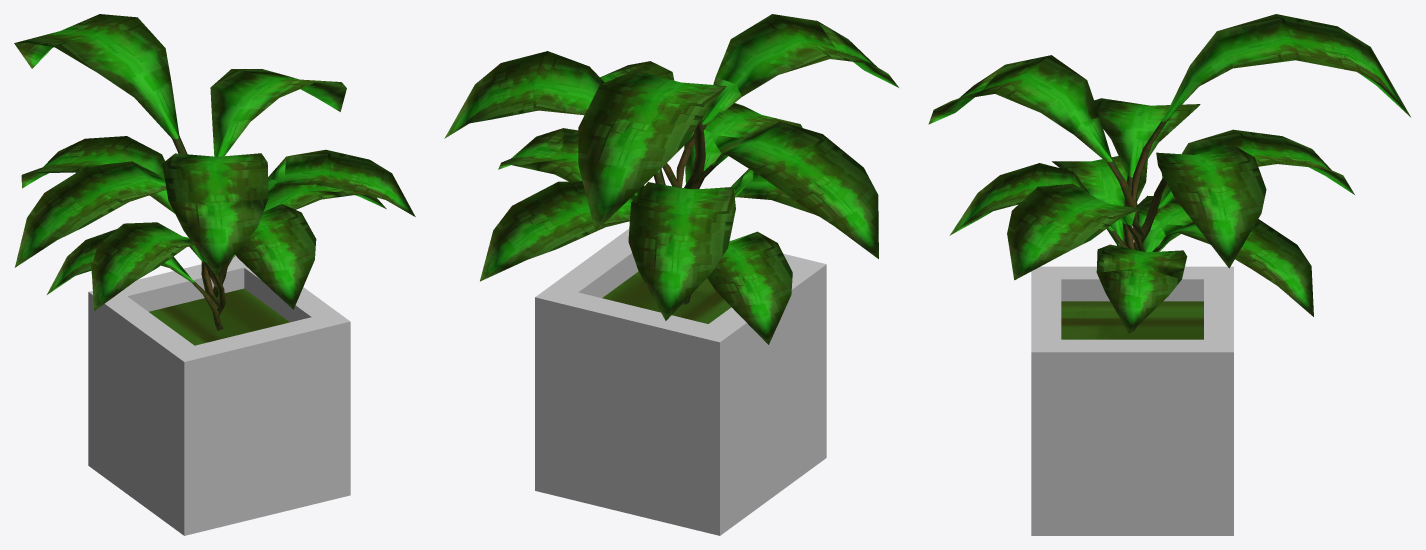
File: sm_plant_small.fbx
3 views of the same model, side by side, from view 1: azimuth 30°, elevation 25°; view 2: azimuth 150°, elevation 25°; view 3: azimuth 270°, elevation 25° (orthographic). The views are drawn at different scales.
Parts seen in each view (by area): view 1: sm_plant_small; view 2: sm_plant_small; view 3: sm_plant_small.
Part boxes in pixels (left/top/right/bottom): sm_plant_small: left=14, top=14, right=415, bottom=535; sm_plant_small: left=444, top=14, right=898, bottom=535; sm_plant_small: left=928, top=14, right=1410, bottom=535.
Size of the model in its own units: 114 by 124 by 127.
